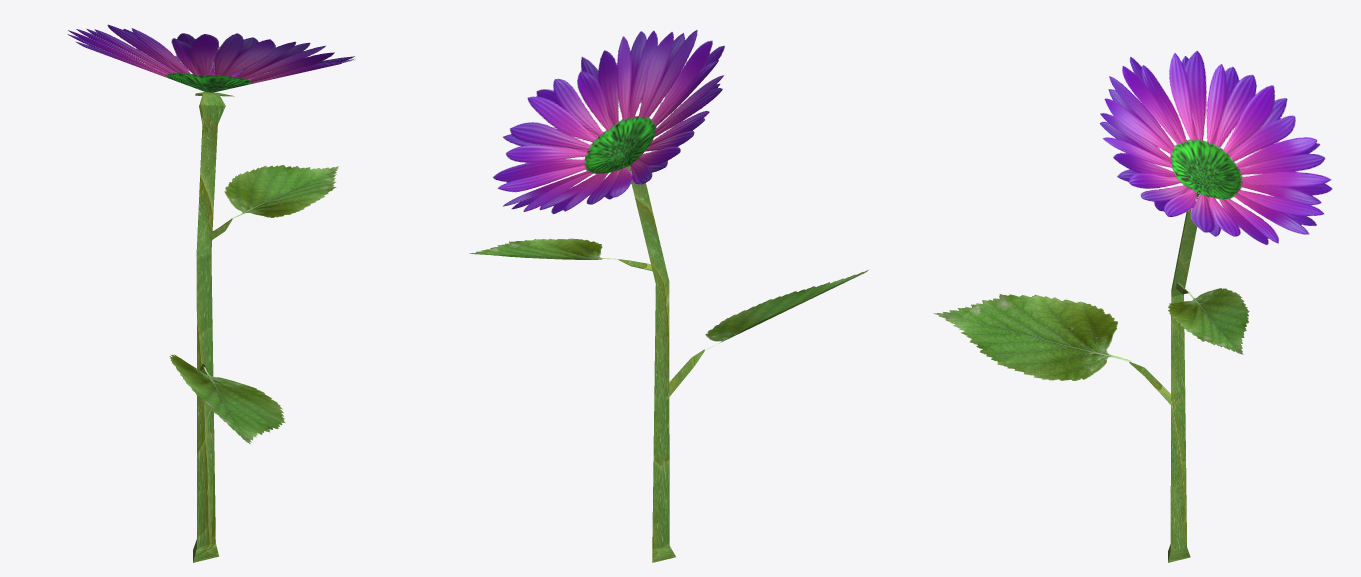
Rendered from flower3.obj.
3 views of the same model, side by side, from view 1: azimuth 30°, elevation 25°; view 2: azimuth 150°, elevation 25°; view 3: azimuth 270°, elevation 25° (orthographic). The views are drawn at different scales.
Parts seen in each view (by area): view 1: Circle, Circle.001; view 2: Circle.001, Circle; view 3: Circle.001, Circle.
Part boxes in pixels (bbox=[...]): Circle: bbox=[169, 92, 338, 562]; Circle.001: bbox=[67, 24, 355, 92]; Circle.001: bbox=[492, 30, 724, 214]; Circle: bbox=[469, 166, 868, 562]; Circle.001: bbox=[1099, 50, 1332, 244]; Circle: bbox=[933, 178, 1249, 562].
Bounding box in the file's own units: 4.53 × 8 × 6.04.
